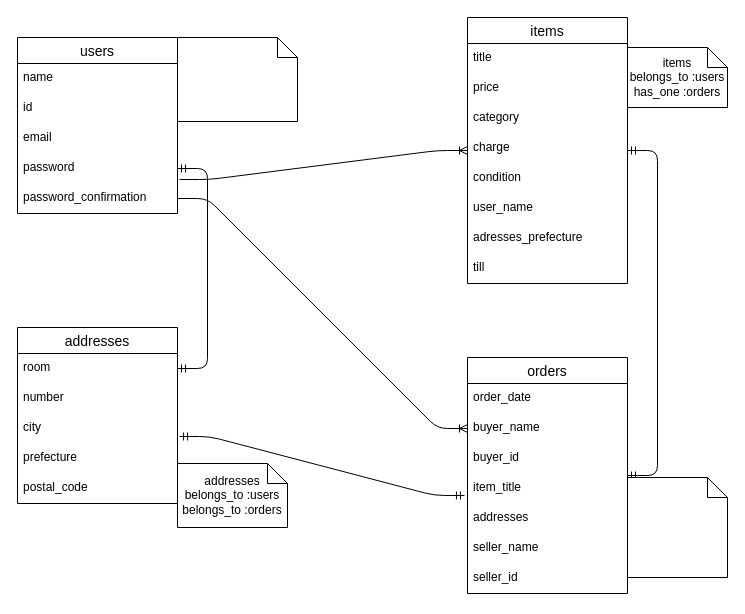
This 745x614 diagram has some shape labels left out. Here are the shapes that lost their labels. From the top down, the centre of each, then its label:
At point 237,79: "users has_many :items has_many :orders has_one :address".
At point 677,527: "orders belongs_to :users belongs_to :items has_one :address".
